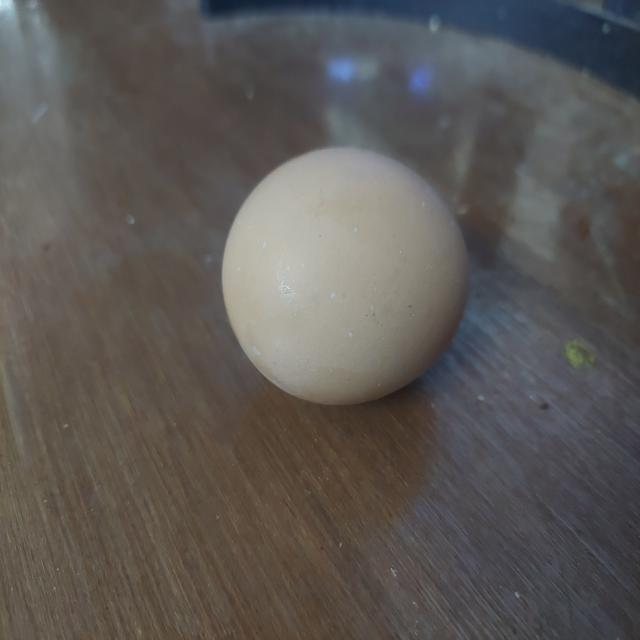egg: (216, 142, 476, 406)
